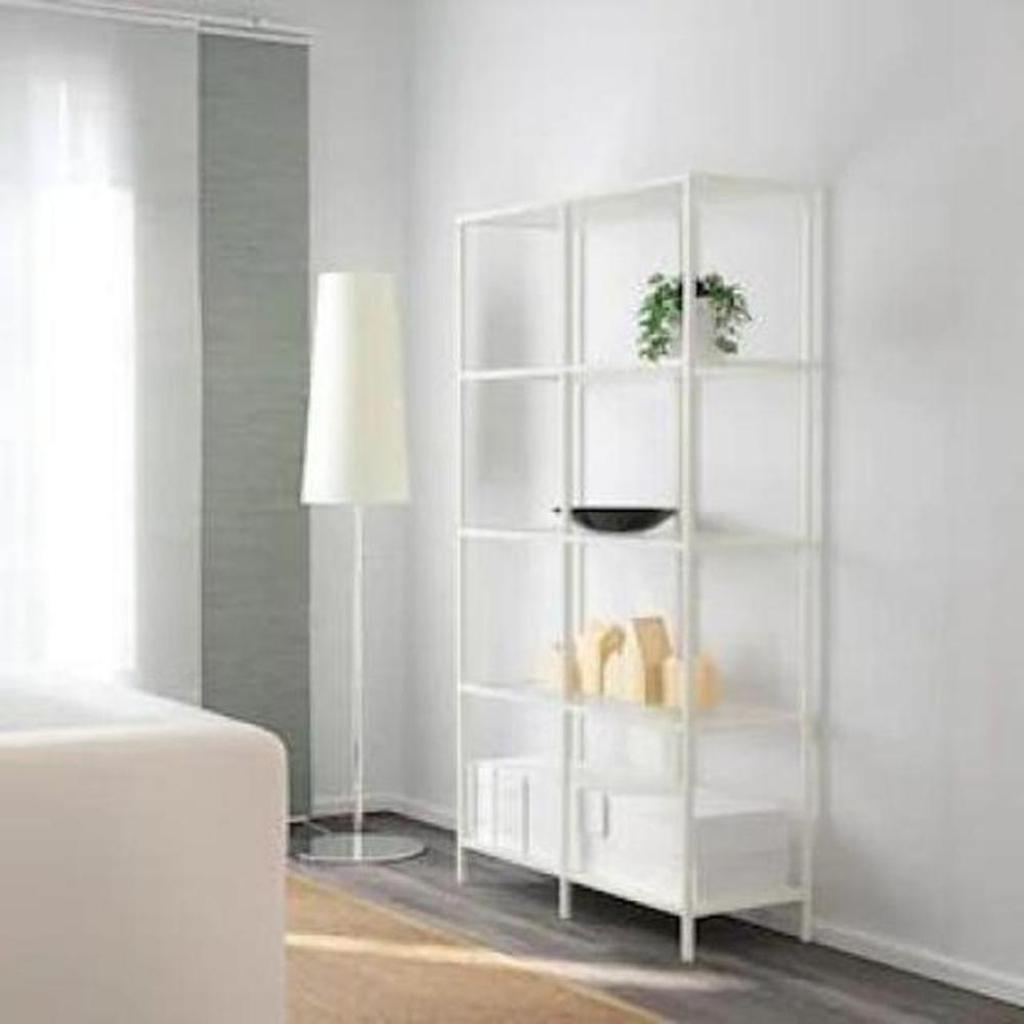lamp: (450, 169, 827, 968)
